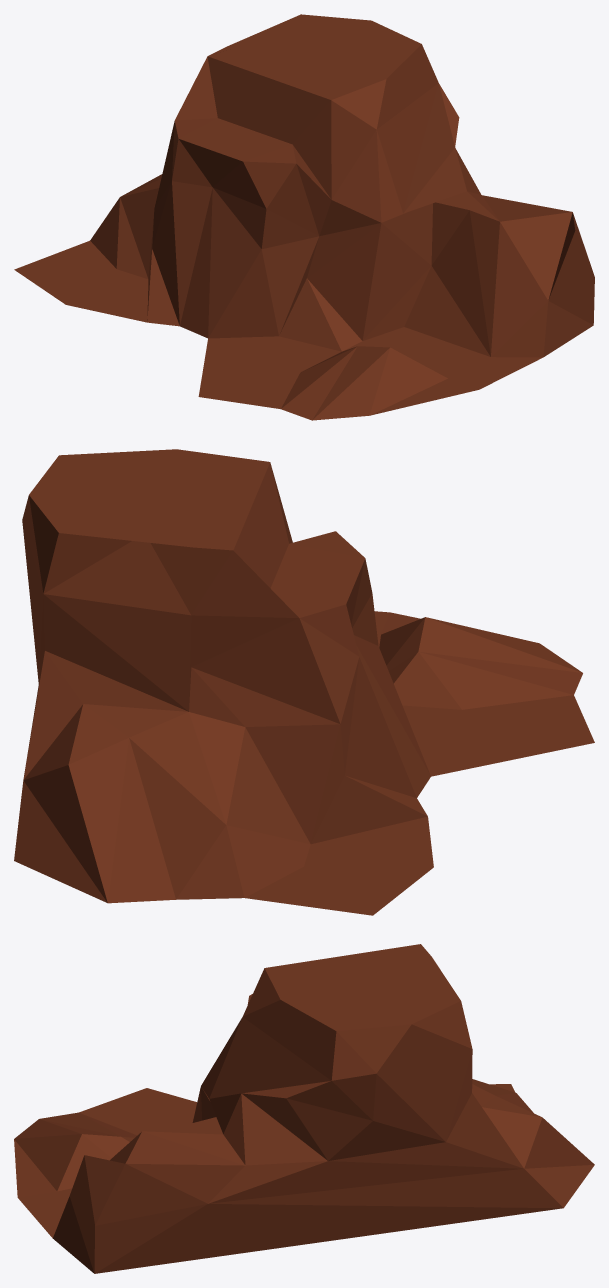
Rendered from 09 Mountain_4.FBX.glb.
The picture shows the model from 3 angles, top to bottom: view 1: azimuth 30°, elevation 25°; view 2: azimuth 150°, elevation 25°; view 3: azimuth 270°, elevation 25°; orthographic projection. The views are drawn at different scales.
Parts seen in each view (by area): view 1: Mountain_4.2; view 2: Mountain_4.2; view 3: Mountain_4.2.
Boxes of the visible parts, left/top/right/bottom form: Mountain_4.2: left=14, top=14, right=594, bottom=420; Mountain_4.2: left=14, top=449, right=594, bottom=915; Mountain_4.2: left=14, top=944, right=594, bottom=1273.
Bounding box in the file's own units: 2469 × 1301 × 3178.
